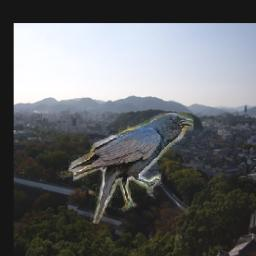Crow: (68, 113, 193, 224)
